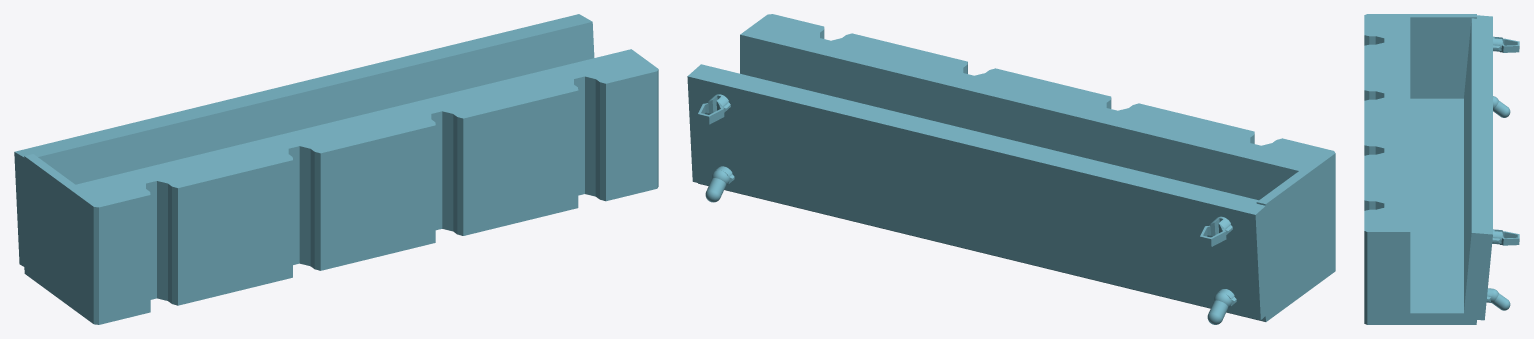
Rendered from part-mh04__current-mounts-v1__fit-pf02c9-hoop5__print.glb.
The picture shows the model from 3 angles, left to right: view 1: azimuth 30°, elevation 25°; view 2: azimuth 150°, elevation 25°; view 3: azimuth 270°, elevation 25°; orthographic projection. The views are drawn at different scales.
Parts seen in each view (by area): view 1: print.stl; view 2: print.stl; view 3: print.stl.
Part boxes in pixels (x1,y1,x2,y2): print.stl: [14, 14, 658, 324]; print.stl: [687, 14, 1335, 324]; print.stl: [1364, 14, 1519, 324].
Bounding box in the file's own units: 0.2012 × 0.04 × 0.0607.
